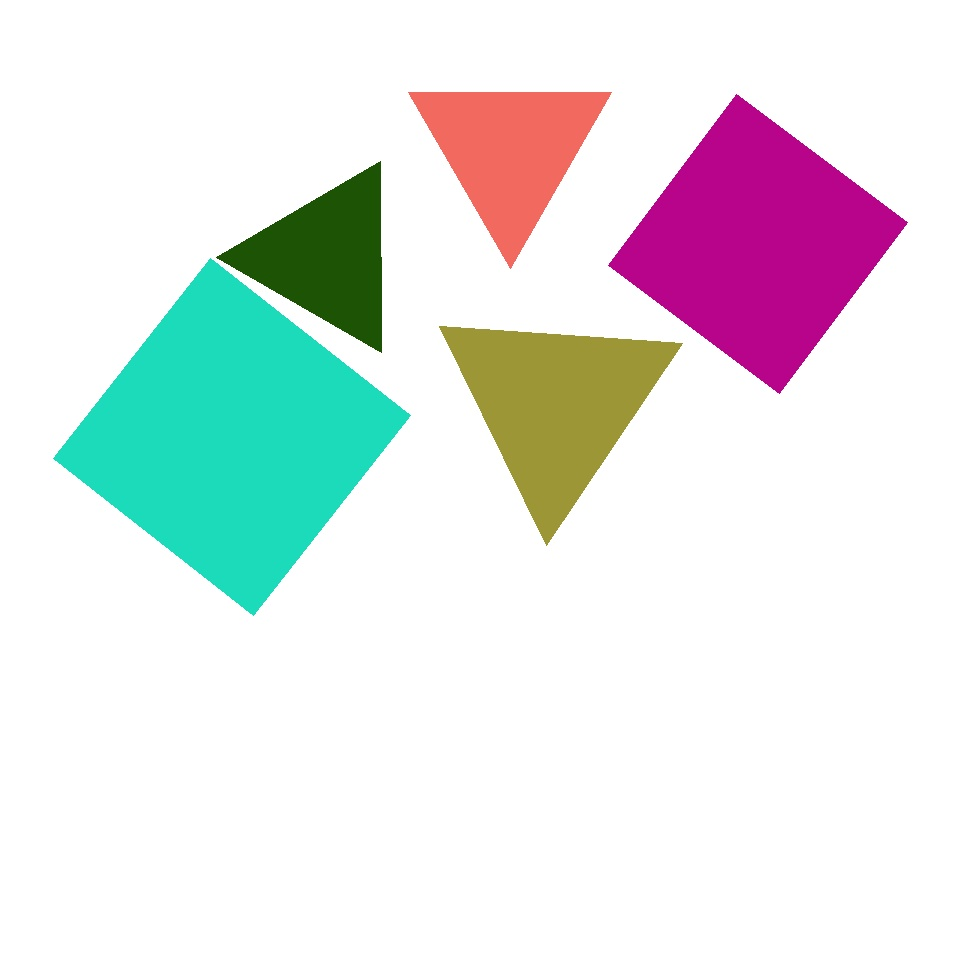circle: (564, 160, 804, 429), (434, 296, 678, 514), (676, 632, 884, 854), (408, 63, 612, 239), (244, 162, 408, 352)
square: (54, 258, 410, 616), (608, 94, 908, 394), (128, 497, 248, 616)
triangle: (214, 326, 516, 626), (270, 142, 448, 318)
